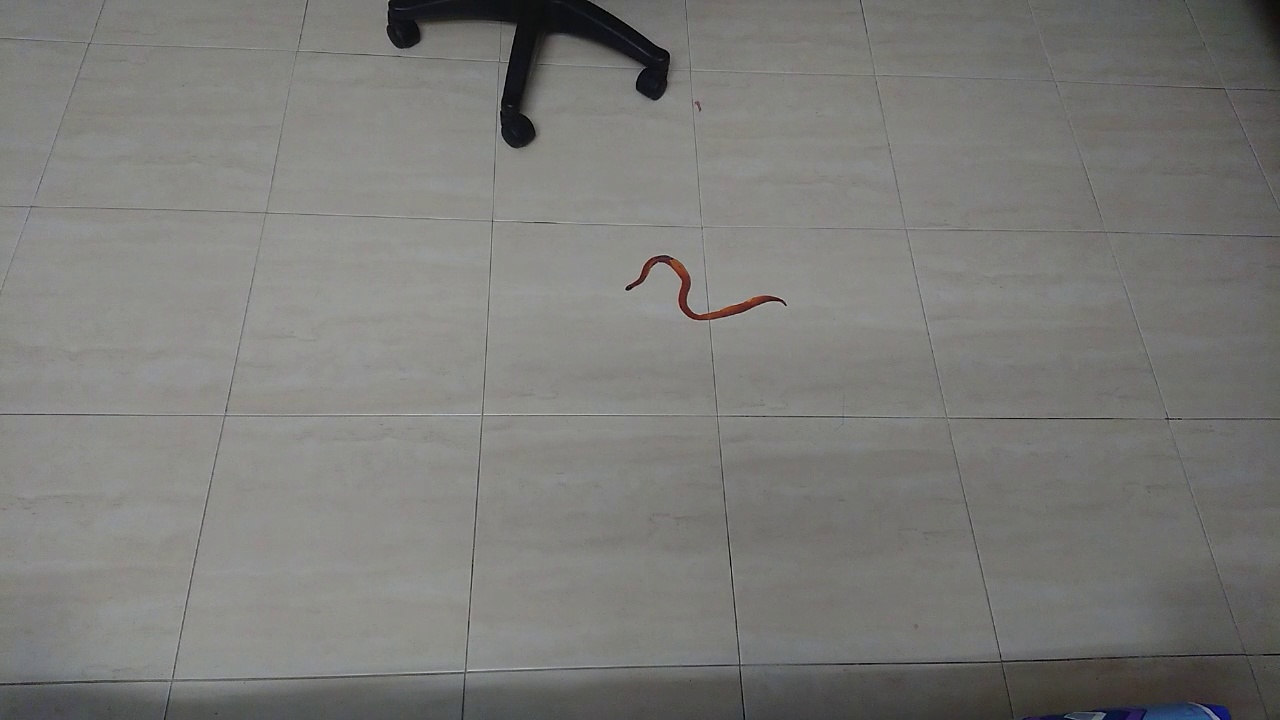snake: (603, 235, 804, 340)
